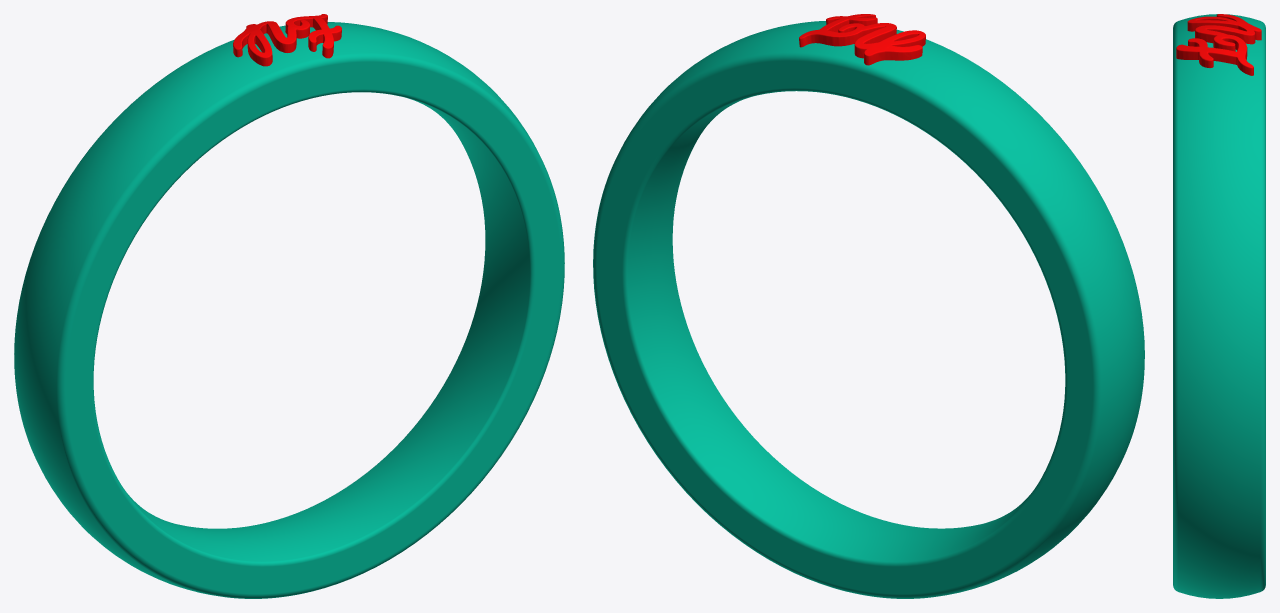
3 renders of one model, left to right at view 1: azimuth 30°, elevation 25°; view 2: azimuth 150°, elevation 25°; view 3: azimuth 270°, elevation 25°, orthographic. The views are drawn at different scales.
Parts seen in each view (by area): view 1: Micheal Fasci.3dm, ;SOLID; view 2: Micheal Fasci.3dm, ;SOLID; view 3: Micheal Fasci.3dm, ;SOLID.
Part boxes in pixels (x1=…): Micheal Fasci.3dm: x1=14, y1=22, x2=564, y2=598; ;SOLID: x1=233, y1=14, x2=341, y2=66; Micheal Fasci.3dm: x1=593, y1=21, x2=1144, y2=598; ;SOLID: x1=799, y1=14, x2=925, y2=65; Micheal Fasci.3dm: x1=1173, y1=14, x2=1265, y2=598; ;SOLID: x1=1176, y1=14, x2=1261, y2=75.
Bounding box in the file's own units: 2.79 × 2.83 × 0.443.
